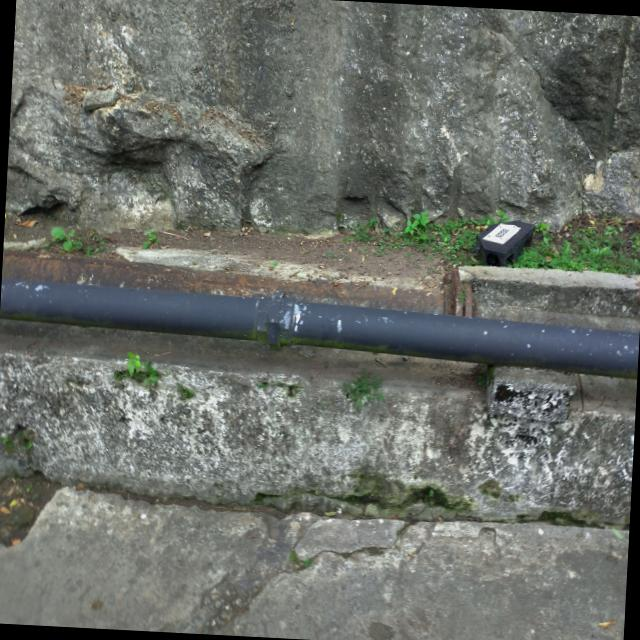gas: (0, 275, 640, 378)
